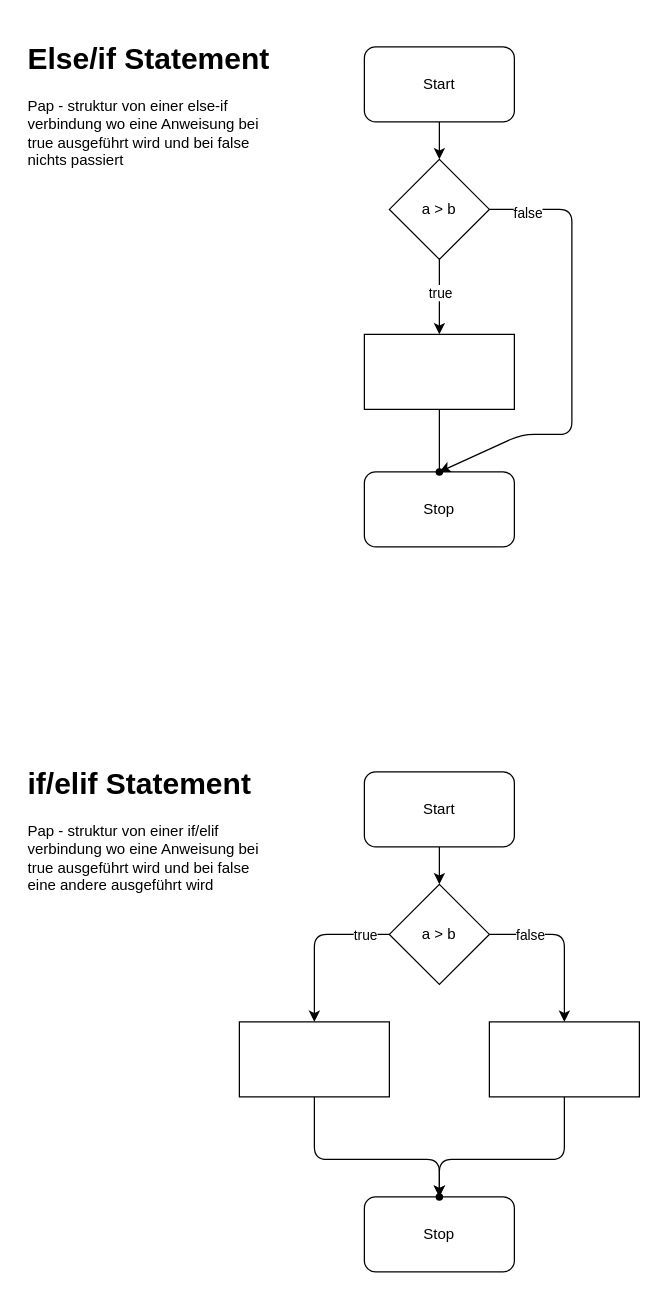
Image size: 661x1294. Some labels were removed from this diagram. Each missing label, with the centre of its shape:
Anweisung: the point at 438,371
Anweisung 1: the point at 313,1059
Anweisung 2: the point at 563,1059
